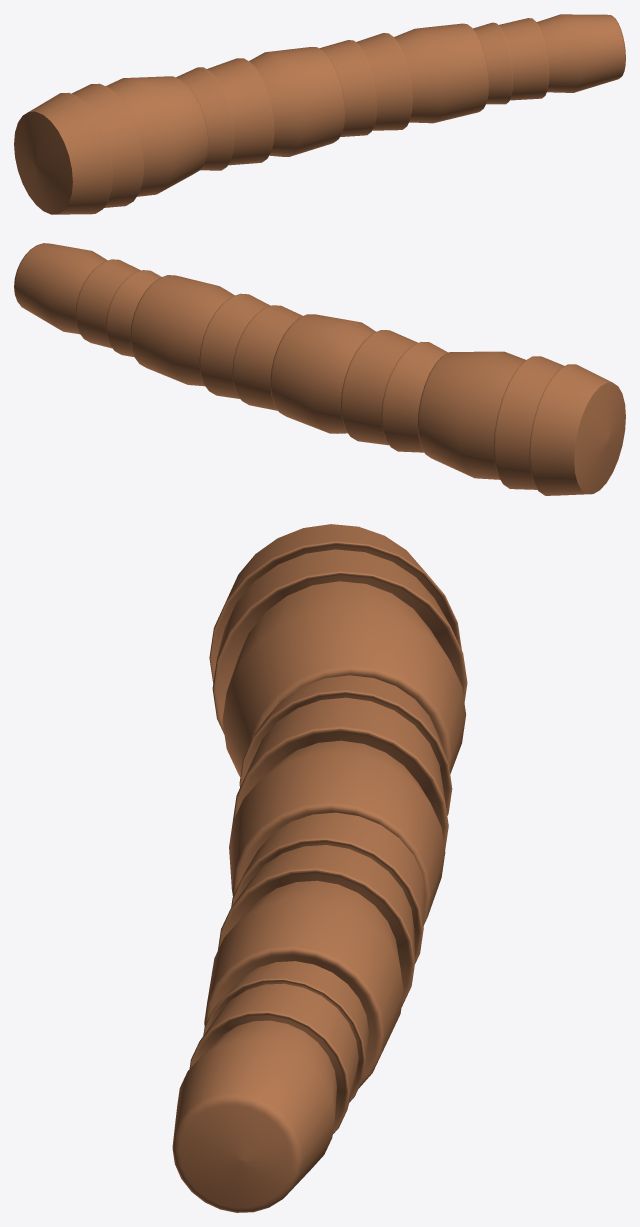
Rendered from JOP_Log2_obstacle_Mesh.fbx.
3 views of the same model, one above another, from view 1: azimuth 30°, elevation 25°; view 2: azimuth 150°, elevation 25°; view 3: azimuth 270°, elevation 25° (orthographic). The views are drawn at different scales.
Parts seen in each view (by area): view 1: Gengon002; view 2: Gengon002; view 3: Gengon002.
Part boxes in pixels (x1,y1,x2,y2): Gengon002: [14, 14, 625, 214]; Gengon002: [14, 243, 625, 495]; Gengon002: [172, 524, 467, 1212].
Bounding box in the file's own units: 181 × 35.33 × 41.18.
